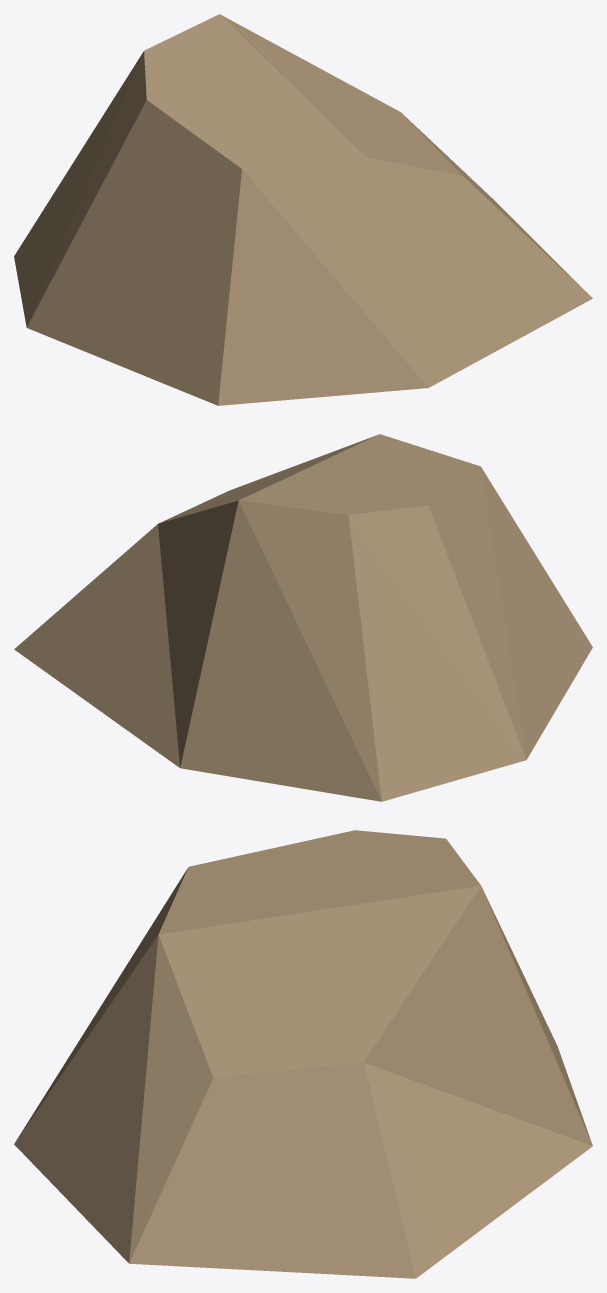
File: TB_D_Env_RockD_B.FBX
The picture shows the model from 3 angles, top to bottom: view 1: azimuth 30°, elevation 25°; view 2: azimuth 150°, elevation 25°; view 3: azimuth 270°, elevation 25°; orthographic projection. The views are drawn at different scales.
Visible parts, largest first — view 1: TB_D_Env_RockD_B; view 2: TB_D_Env_RockD_B; view 3: TB_D_Env_RockD_B.
Part boxes in pixels (x1,y1,x2,y2): TB_D_Env_RockD_B: (14, 14, 592, 405); TB_D_Env_RockD_B: (14, 434, 592, 801); TB_D_Env_RockD_B: (14, 830, 592, 1278).
Bounding box in the file's own units: 1.49 × 0.6652 × 1.36.
